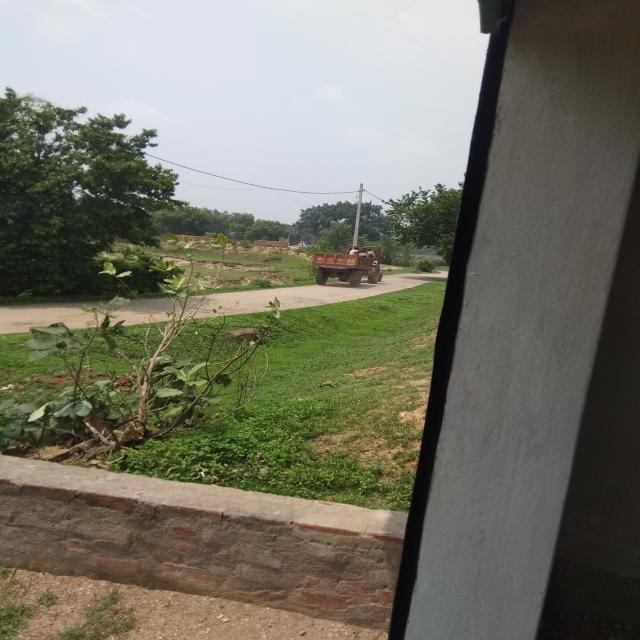tractor_back: (308, 243, 390, 291)
